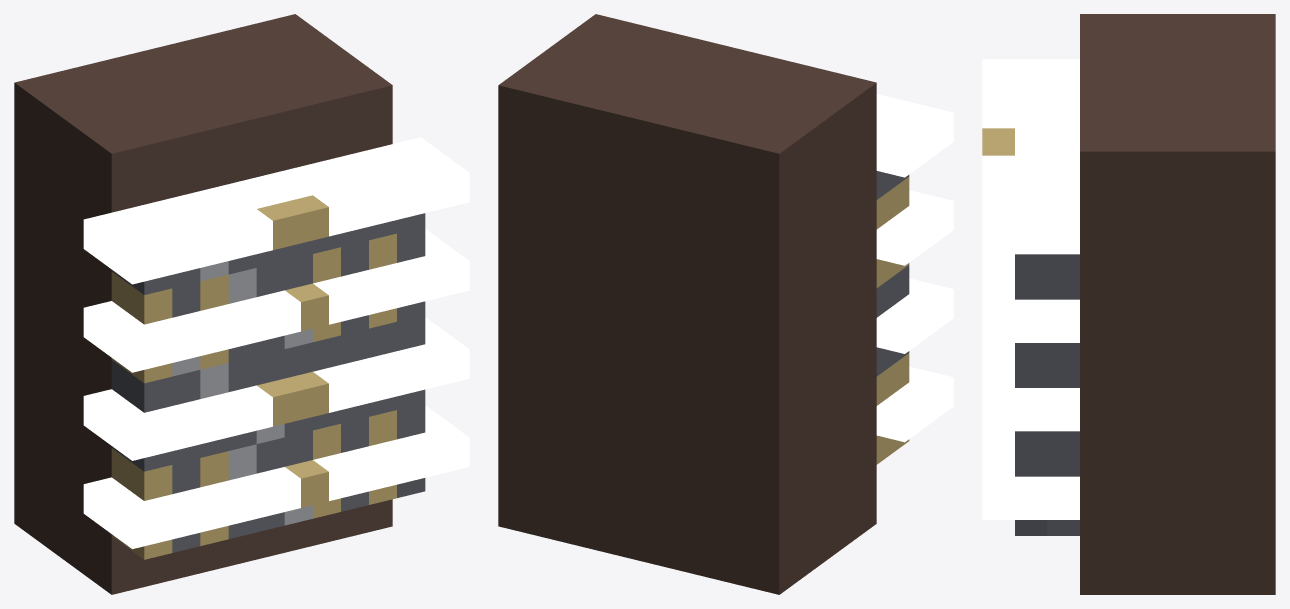
The model's file is knuckles_legendary.glb.
3 renders of one model, left to right at view 1: azimuth 30°, elevation 25°; view 2: azimuth 150°, elevation 25°; view 3: azimuth 270°, elevation 25°, orthographic.
Parts seen in each view (by area): view 1: knuckles_legendary; view 2: knuckles_legendary; view 3: knuckles_legendary.
Part boxes in pixels (box(x1,y1,x2,y2)): knuckles_legendary: box(14, 14, 469, 594); knuckles_legendary: box(498, 14, 953, 594); knuckles_legendary: box(982, 14, 1275, 594).
Bounding box in the file's own units: 0.18 × 0.225 × 0.135.
